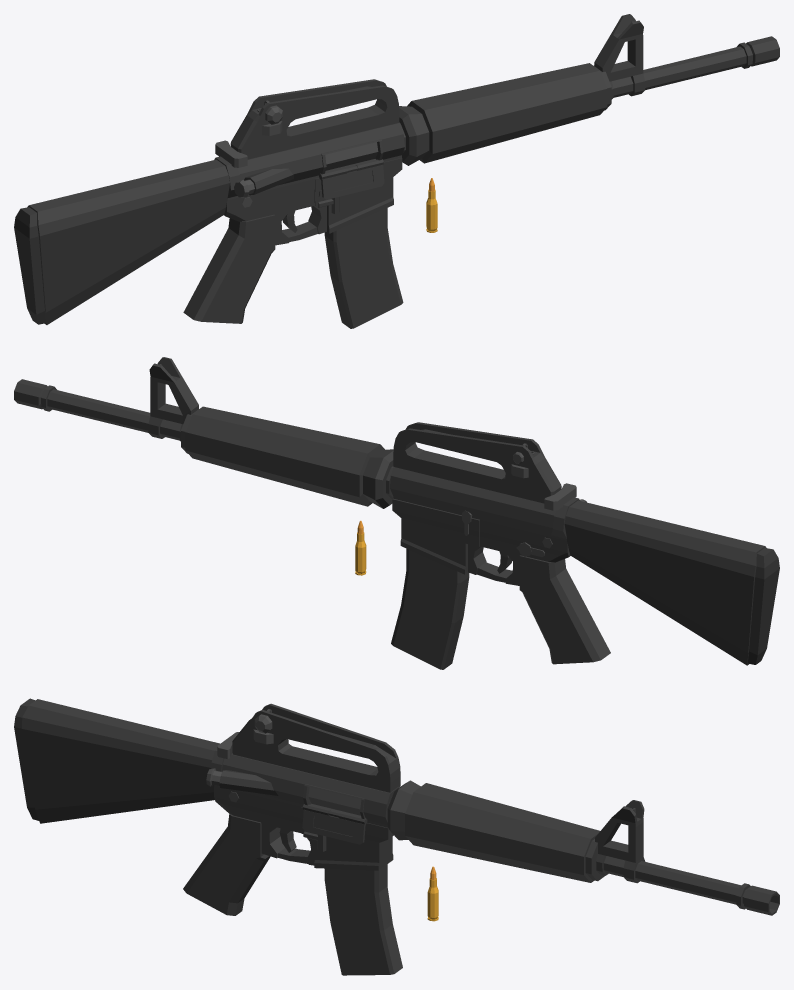
3 views of the same model, one above another, from view 1: azimuth 30°, elevation 25°; view 2: azimuth 150°, elevation 25°; view 3: azimuth 330°, elevation 25° (orthographic).
Parts seen in each view (by area): view 1: M4, Mag; view 2: M4, Mag; view 3: M4, Mag, Bullet.
Part boxes in pixels (x1,y1,x2,y2): M4: [14, 14, 779, 324]; Mag: [324, 208, 403, 328]; M4: [14, 357, 779, 665]; Mag: [391, 548, 469, 669]; M4: [14, 698, 779, 915]; Mag: [324, 864, 402, 975]; Bullet: [427, 866, 438, 921].
Size of the model in its own units: 967 by 300 by 79.39.
1 material, 1 textured.
